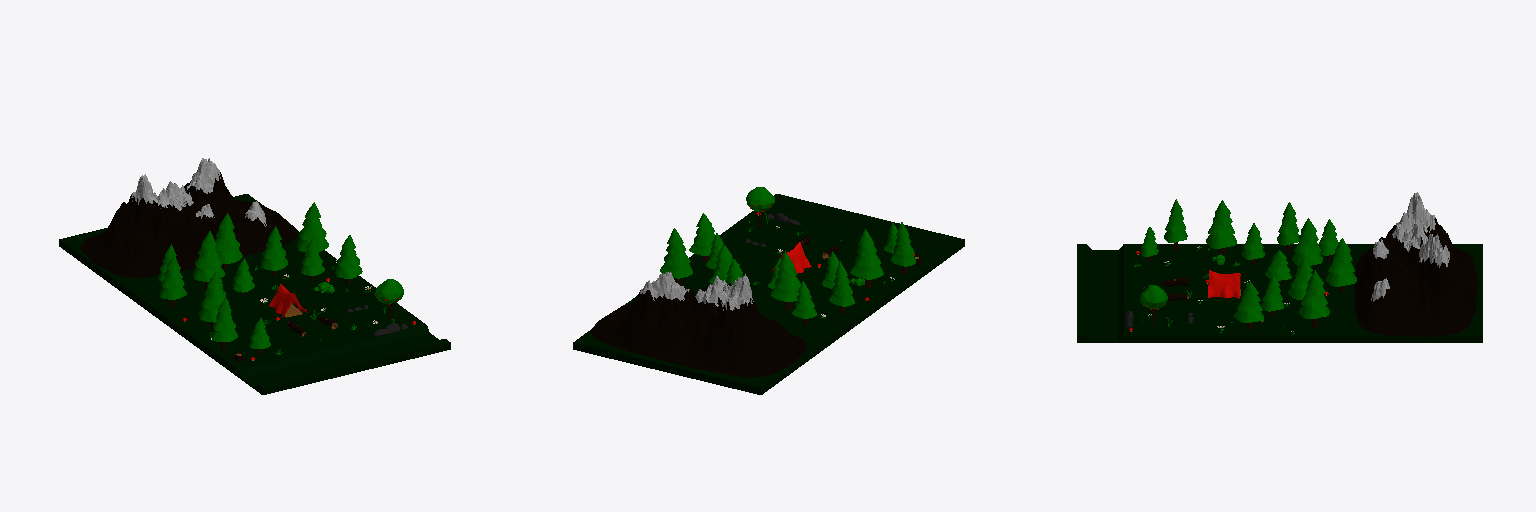
The model's file is campsite3.obj.
3 renders of one model, left to right at view 1: azimuth 30°, elevation 25°; view 2: azimuth 150°, elevation 25°; view 3: azimuth 270°, elevation 25°, orthographic.
Parts seen in each view (by area): view 1: Cube, Landscape, Pine_Tree.004, Pine_Tree.001, Pine_Tree.011, Pine_Tree.002, Pine_Tree.003, Pine_Tree.010, Pine_Tree.014, Pine_Tree, Plane.001_Plane.001, Icosphere.004 (+1 smaller); view 2: Cube, Landscape, Pine_Tree.002, Pine_Tree.011, Pine_Tree.004, Pine_Tree, Pine_Tree.010, Pine_Tree.003, Icosphere.004, Pine_Tree.007; view 3: Cube, Landscape, Pine_Tree.011, Pine_Tree.002, Pine_Tree.001, Pine_Tree.004, Pine_Tree.003, Plane.001_Plane.001, Pine_Tree, Pine_Tree.010, Pine_Tree.014, Icosphere.004 (+2 smaller).
Boxes of the visible parts, box(x1,y1,x2,y2) form: Cube: box(59, 194, 450, 394); Landscape: box(80, 158, 297, 277); Pine_Tree.004: box(193, 231, 224, 289); Pine_Tree.001: box(215, 213, 242, 268); Pine_Tree.011: box(297, 202, 328, 251); Pine_Tree.002: box(199, 271, 230, 330); Pine_Tree.003: box(335, 235, 362, 283); Pine_Tree.010: box(160, 255, 186, 307); Pine_Tree.014: box(261, 226, 287, 275); Pine_Tree: box(211, 297, 237, 349); Plane.001_Plane.001: box(269, 284, 307, 317); Icosphere.004: box(374, 279, 403, 319); Cube: box(573, 194, 964, 394); Landscape: box(590, 272, 807, 377); Pine_Tree.002: box(850, 229, 883, 287); Pine_Tree.011: box(660, 228, 692, 285); Pine_Tree.004: box(771, 251, 800, 309); Pine_Tree: box(891, 222, 915, 273); Pine_Tree.010: box(829, 261, 854, 313); Pine_Tree.003: box(689, 213, 714, 261); Icosphere.004: box(746, 187, 774, 227); Pine_Tree.007: box(792, 281, 816, 324); Cube: box(1077, 244, 1482, 342); Landscape: box(1354, 192, 1477, 336); Pine_Tree.011: box(1299, 270, 1329, 327); Pine_Tree.002: box(1206, 200, 1236, 256); Pine_Tree.001: box(1326, 238, 1356, 291); Pine_Tree.004: box(1292, 218, 1322, 266); Pine_Tree.003: box(1234, 281, 1263, 328); Plane.001_Plane.001: box(1208, 270, 1240, 298); Pine_Tree: box(1164, 199, 1187, 250); Pine_Tree.010: box(1277, 202, 1299, 252); Pine_Tree.014: box(1288, 258, 1312, 305); Icosphere.004: box(1140, 285, 1167, 325).
Bounding box in the file's own units: 81.55 × 34.17 × 150.